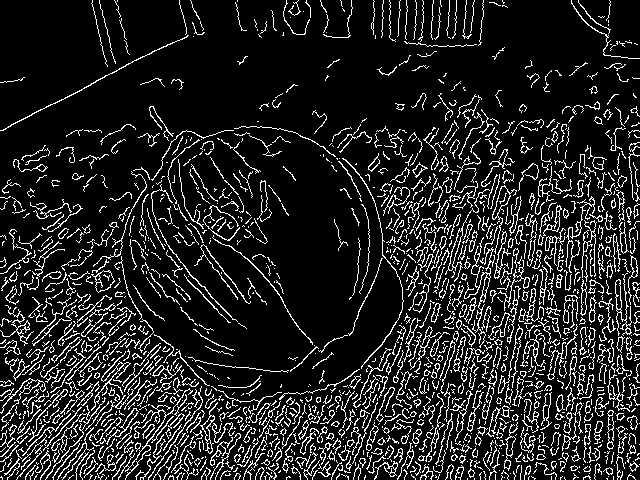onion: (111, 99, 397, 394)
